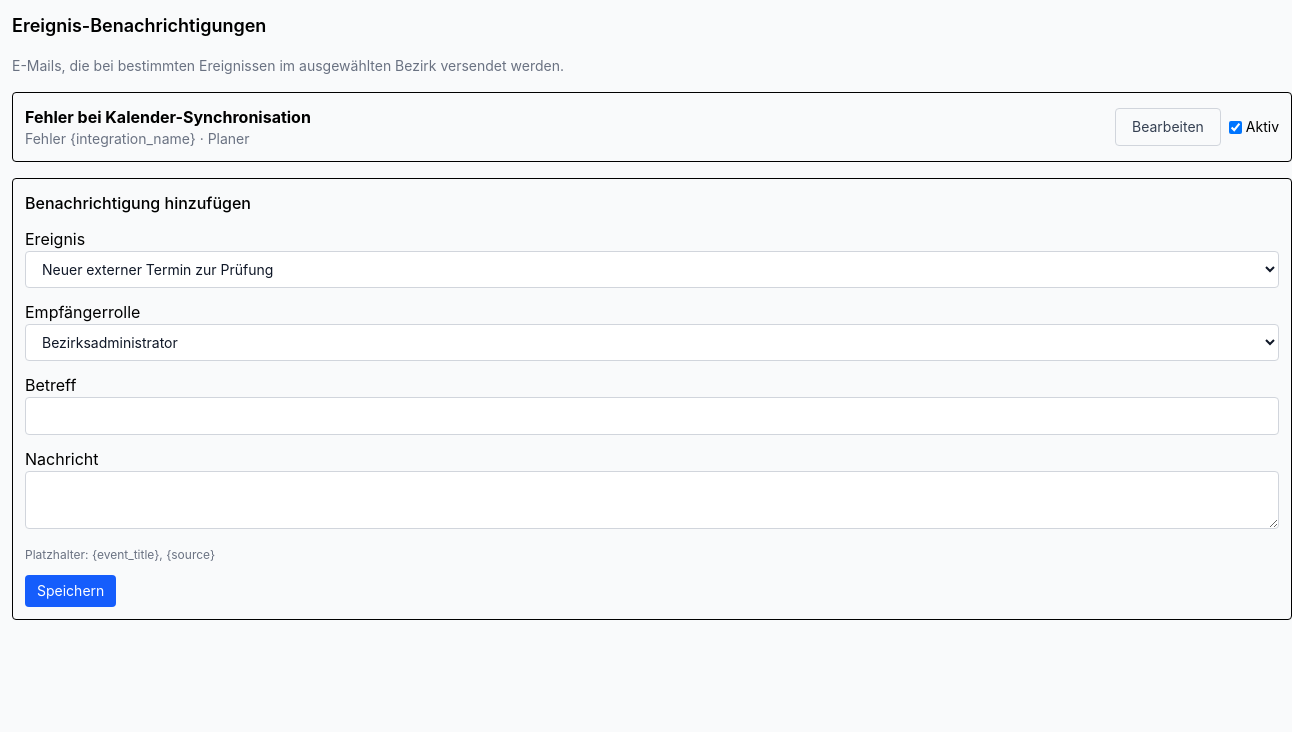
Test: EventHooksPanel › shows the placeholders of the selected event type
Expected: the text with test id "placeholders" shows "{event_title}, {source}", left=25, top=547, right=215, bottom=562
Select "Fehler bei Kalender-Synchronisation" in the dropdown named "event_type": coordinates (652, 270) left=25, top=251, right=1279, bottom=288
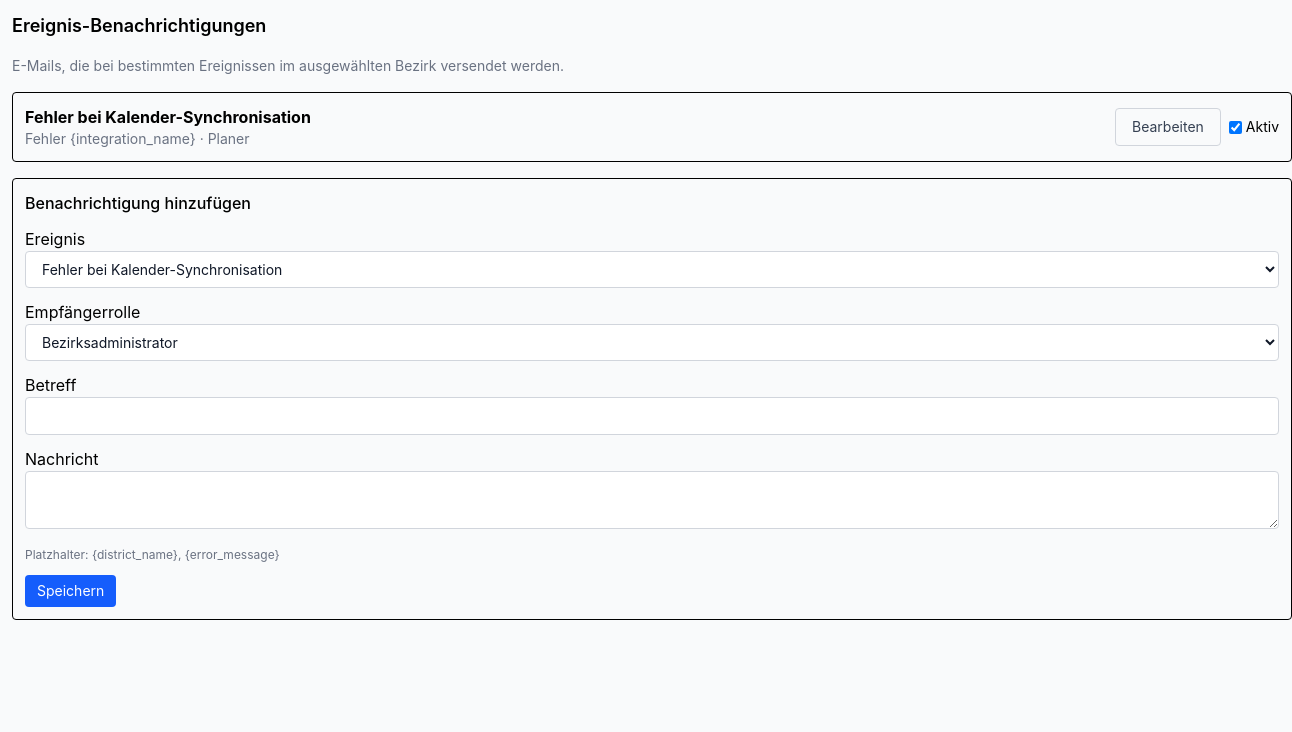
Now the text with test id "placeholders" shows "{error_message}", box left=25, top=547, right=280, bottom=562
